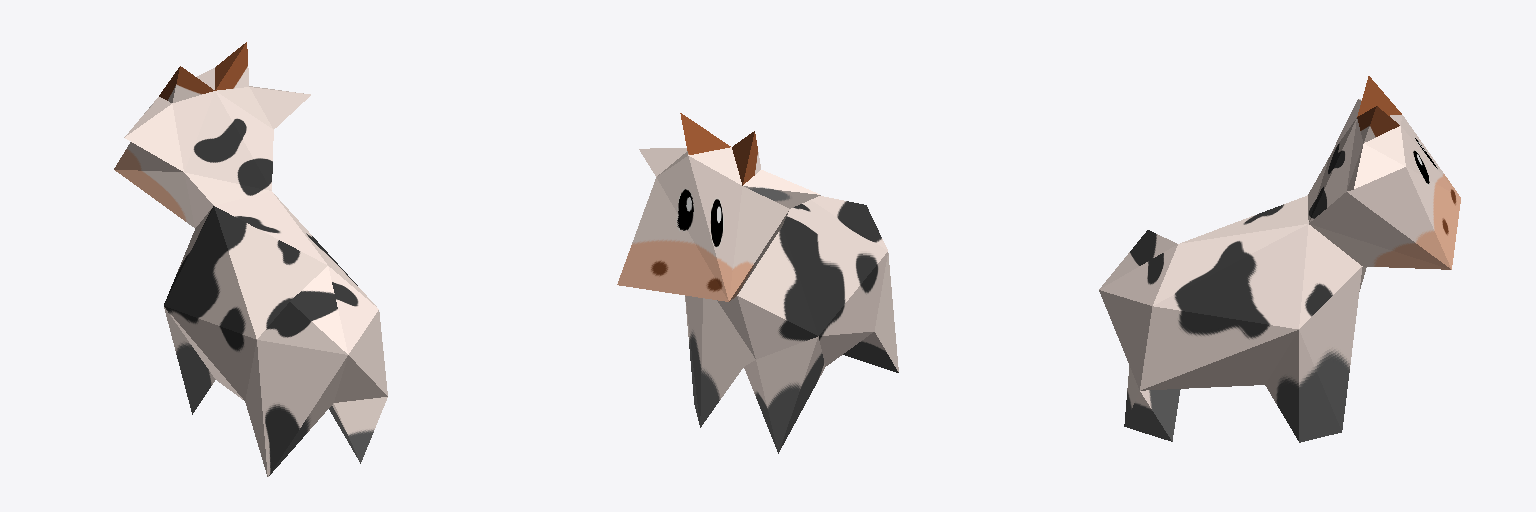
The picture shows the model from 3 angles: view 1: azimuth 30°, elevation 25°; view 2: azimuth 150°, elevation 25°; view 3: azimuth 270°, elevation 25°; orthographic projection.
Parts seen in each view (by area): view 1: spot_triangulated_custom; view 2: spot_triangulated_custom; view 3: spot_triangulated_custom.
Boxes of the visible parts, <box> form: spot_triangulated_custom: <box>114,42,387,476</box>; spot_triangulated_custom: <box>617,113,898,453</box>; spot_triangulated_custom: <box>1099,76,1460,442</box>.
Bounding box in the file's own units: 1.01 × 1.76 × 1.71.
1 materials, 1 textured.